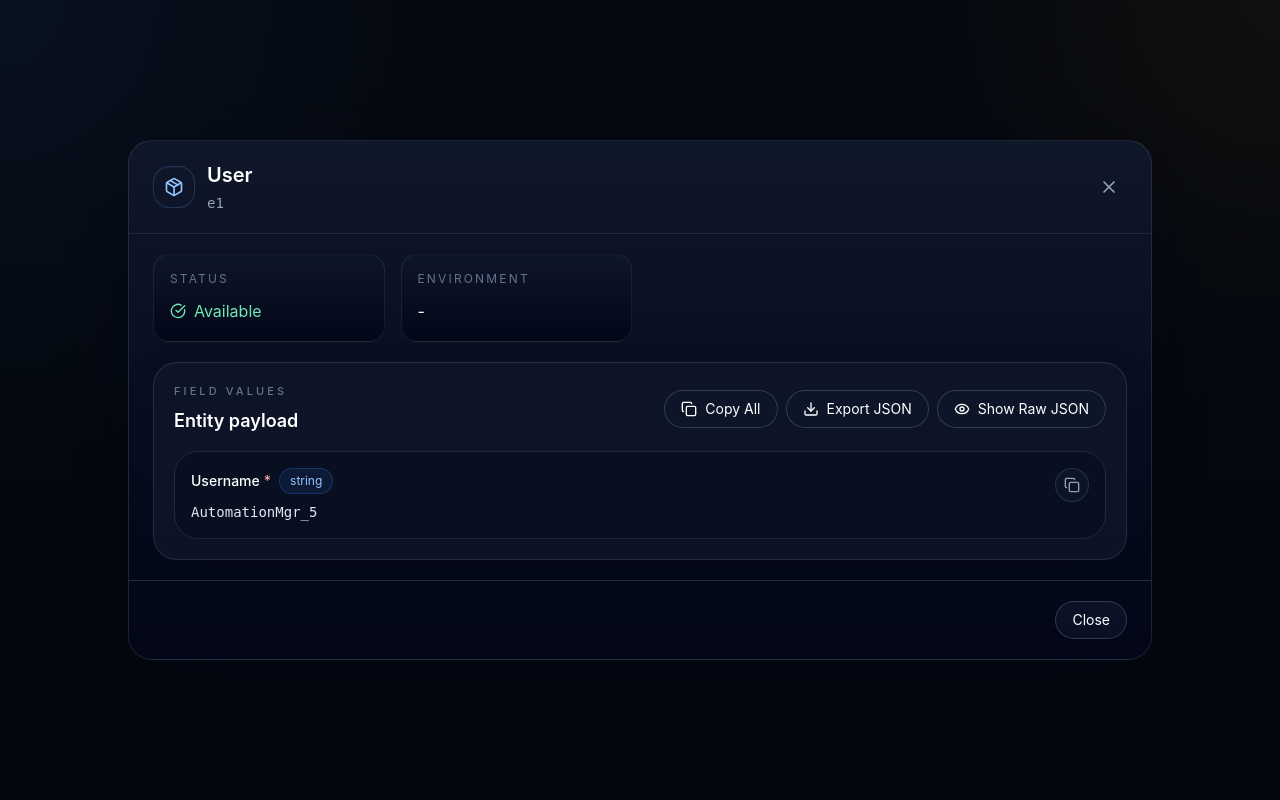
Test: EntityViewDialog copy actions › surfaces a success toast after a successful copy
Click the button titled "Copy value".
click(1072, 485)  # box [1055, 468, 1089, 502]
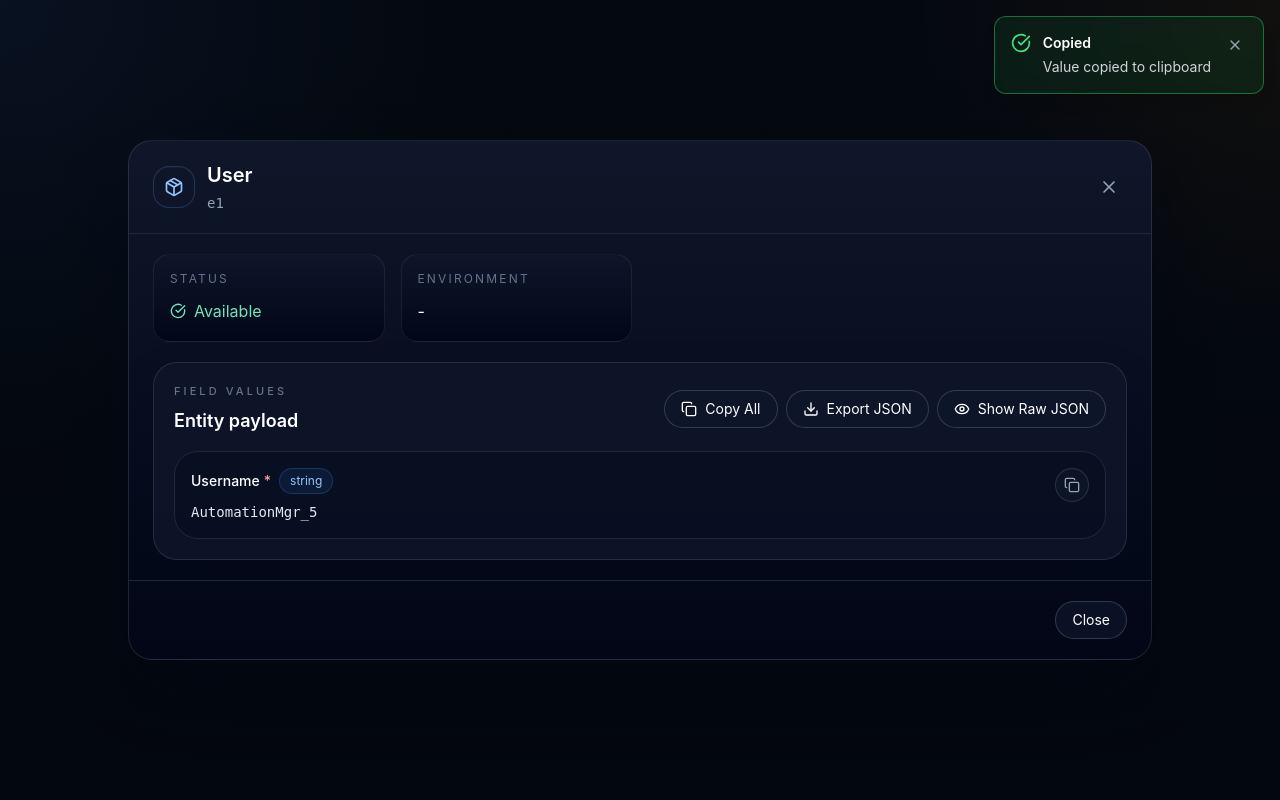
Result: the text "Copied" is shown at [1043, 34, 1091, 51]
